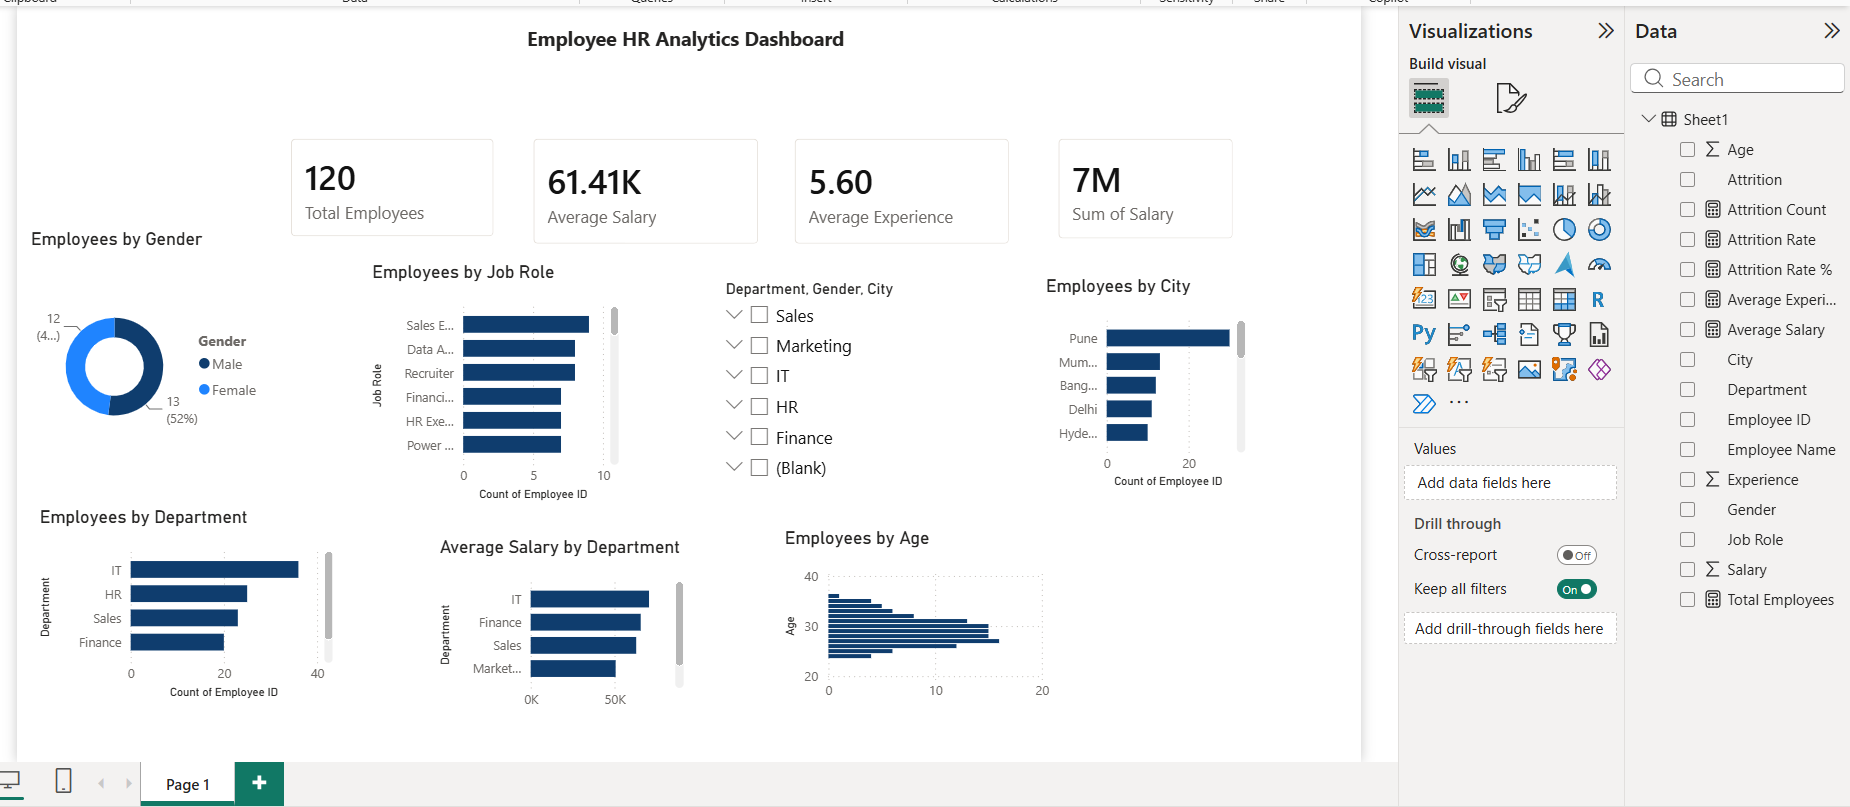

What the dashboard file says about the page in this screenshot:
{"tool":"powerbi","page":{"name":"Page 1","canvas":[1280,720],"ordinal":0},"visuals":[{"type":"cardVisual","fields":{"Data":["Sheet1.Total Employees"]},"box":[244,109.5,227.4,127.4],"z":0},{"type":"cardVisual","fields":{"Data":["Sheet1.Average Salary"]},"box":[475,109.5,248.8,134.5],"z":1000},{"type":"cardVisual","fields":{"Data":["Sheet1.Average Experience"]},"box":[723.8,109.5,238.1,134.5],"z":2000},{"type":"clusteredBarChart","title":"Employees by Department","fields":{"Category":["Sheet1.Department"],"Y":["CountNonNull(Sheet1.Employee ID)"]},"box":[16.7,476.2,289.3,188.1],"z":3000},{"type":"clusteredBarChart","fields":{"Category":["Sheet1.Department"],"Y":["Sheet1.Average Salary"]},"box":[397.6,504.8,242.5,173.7],"z":4000},{"type":"donutChart","title":"Employees by Gender","fields":{"Category":["Sheet1.Gender"],"Y":["Sheet1.Attrition Count"]},"box":[8.3,211.9,235.3,232.8],"z":5000},{"type":"slicer","fields":{"Values":["Sheet1.Department","Sheet1.Gender","Sheet1.City"]},"box":[661.9,256,212.3,207.5],"z":6000},{"type":"clusteredBarChart","title":"Employees by Job Role","fields":{"Category":["Sheet1.Job Role"],"Y":["CountNonNull(Sheet1.Employee ID)"]},"box":[333.3,242.9,244.9,232.8],"z":7000},{"type":"textbox","box":[381,13.1,516.7,41.7],"z":8000},{"type":"clusteredBarChart","title":"Employees by Age","fields":{"Category":["Sheet1.Age"],"Y":["CountNonNull(Sheet1.Employee ID)"]},"box":[726.2,496.4,262,174],"z":9000},{"type":"cardVisual","fields":{"Data":["Sum(Sheet1.Salary)"]},"box":[975,109.5,200,129.8],"z":10000},{"type":"clusteredBarChart","title":"Employees by City","fields":{"Category":["Sheet1.City"],"Y":["CountNonNull(Sheet1.Employee ID)"]},"box":[975,256,200,208],"z":11000}]}

Visuals, with their boxes on the page's 1280x720 design canvas (x1, y1, x2, y2). These are canvas units, not pixel positions in the 1850x807 screenshot, which may show the page scaled, cropped or inside an application window:
cardVisual - Sheet1.Total Employees: detection(244, 110, 471, 237)
cardVisual - Sheet1.Average Salary: detection(475, 110, 724, 244)
cardVisual - Sheet1.Average Experience: detection(724, 110, 962, 244)
"Employees by Department" clusteredBarChart: detection(17, 476, 306, 664)
clusteredBarChart - Sheet1.Department x Sheet1.Average Salary: detection(398, 505, 640, 678)
"Employees by Gender" donutChart: detection(8, 212, 244, 445)
slicer - Sheet1.Department x Sheet1.Gender: detection(662, 256, 874, 464)
"Employees by Job Role" clusteredBarChart: detection(333, 243, 578, 476)
textbox: detection(381, 13, 898, 55)
"Employees by Age" clusteredBarChart: detection(726, 496, 988, 670)
cardVisual - Sum(Sheet1.Salary): detection(975, 110, 1175, 239)
"Employees by City" clusteredBarChart: detection(975, 256, 1175, 464)
